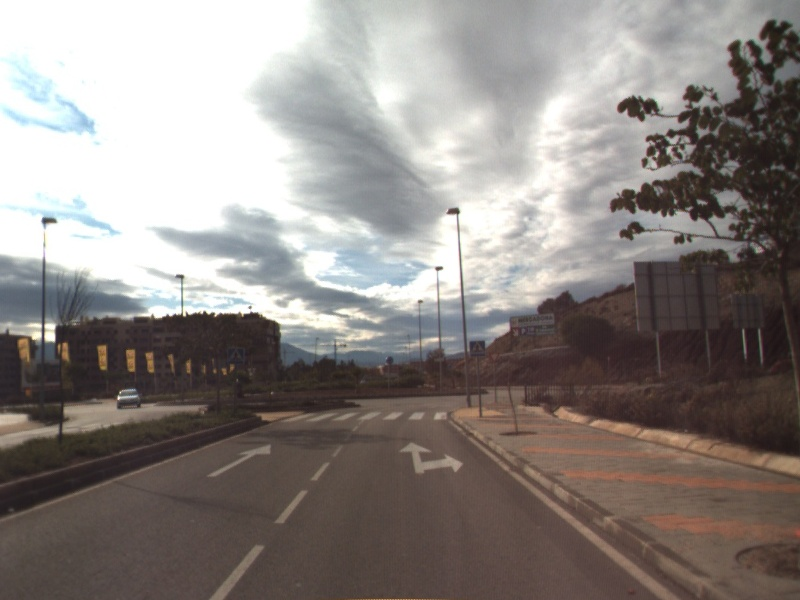STRAIGHT: (205, 442, 273, 479)
STRAIGHT_RIGHT: (397, 440, 465, 475)
